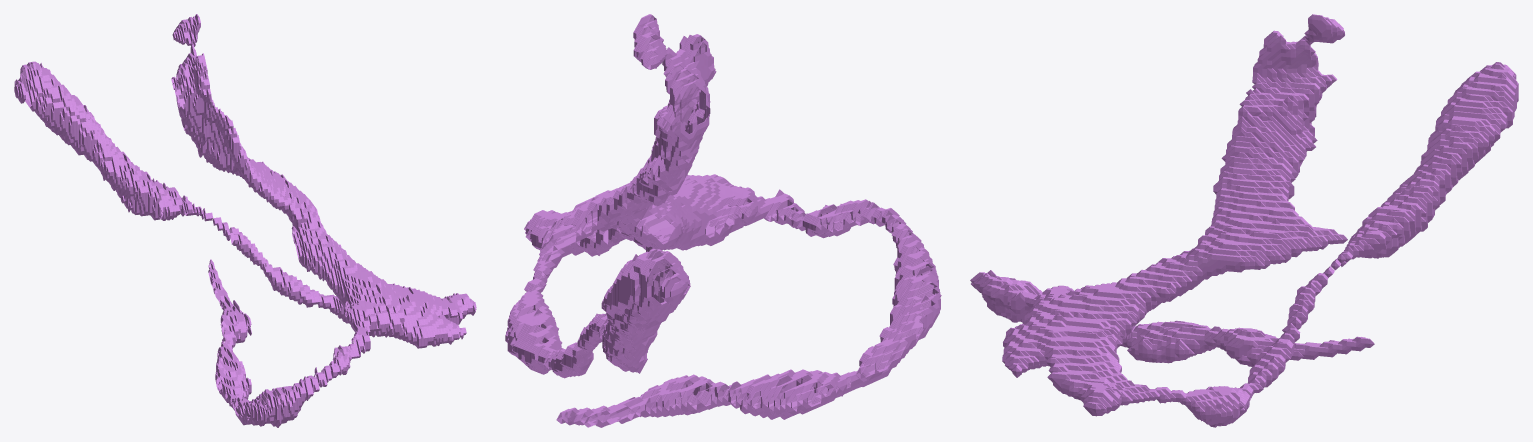
The model's file is SVV_CEPVL.gltf.
The picture shows the model from 3 angles, left to right: view 1: azimuth 30°, elevation 25°; view 2: azimuth 150°, elevation 25°; view 3: azimuth 270°, elevation 25°; orthographic projection. The views are drawn at different scales.
Visible parts, largest first — view 1: CEPVL; view 2: CEPVL; view 3: CEPVL.
Boxes of the visible parts, bbox=[...] form: CEPVL: bbox=[14, 14, 476, 427]; CEPVL: bbox=[505, 14, 941, 427]; CEPVL: bbox=[970, 14, 1518, 427].
Bounding box in the file's own units: 50709 × 55396 × 75547.
